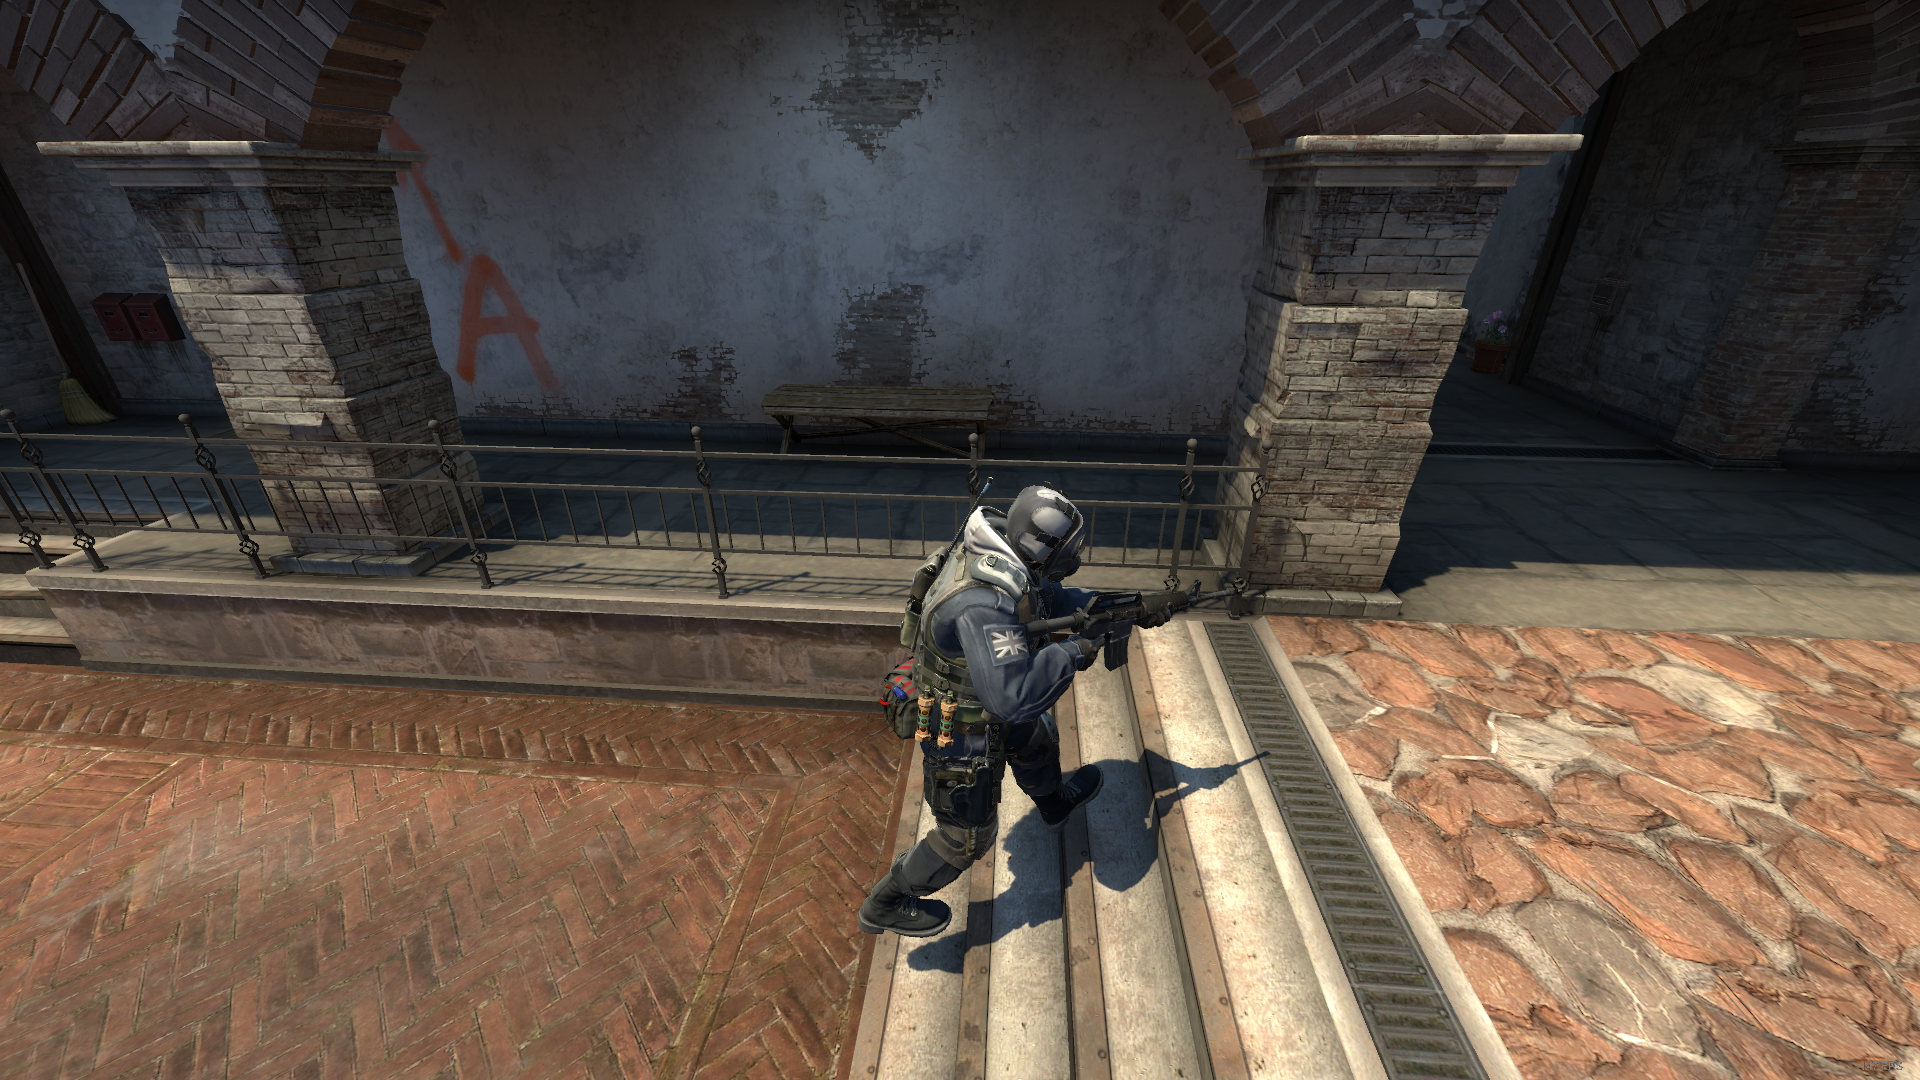ct: (857, 483, 1106, 942)
